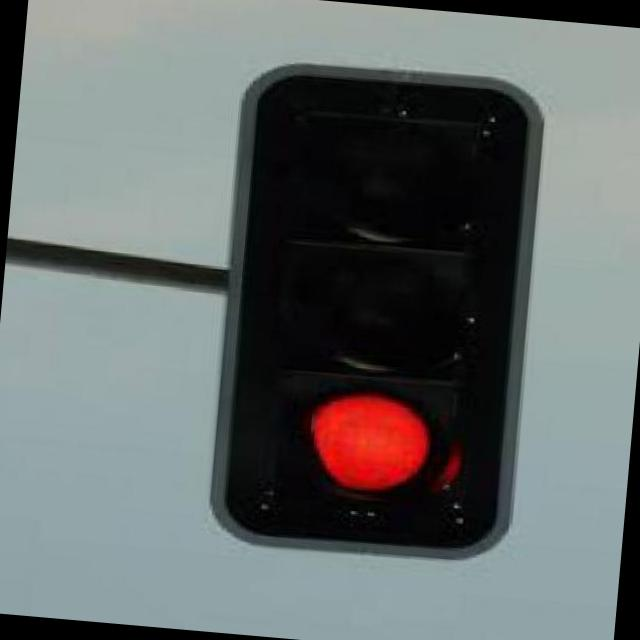red-lights: (287, 375, 445, 508)
